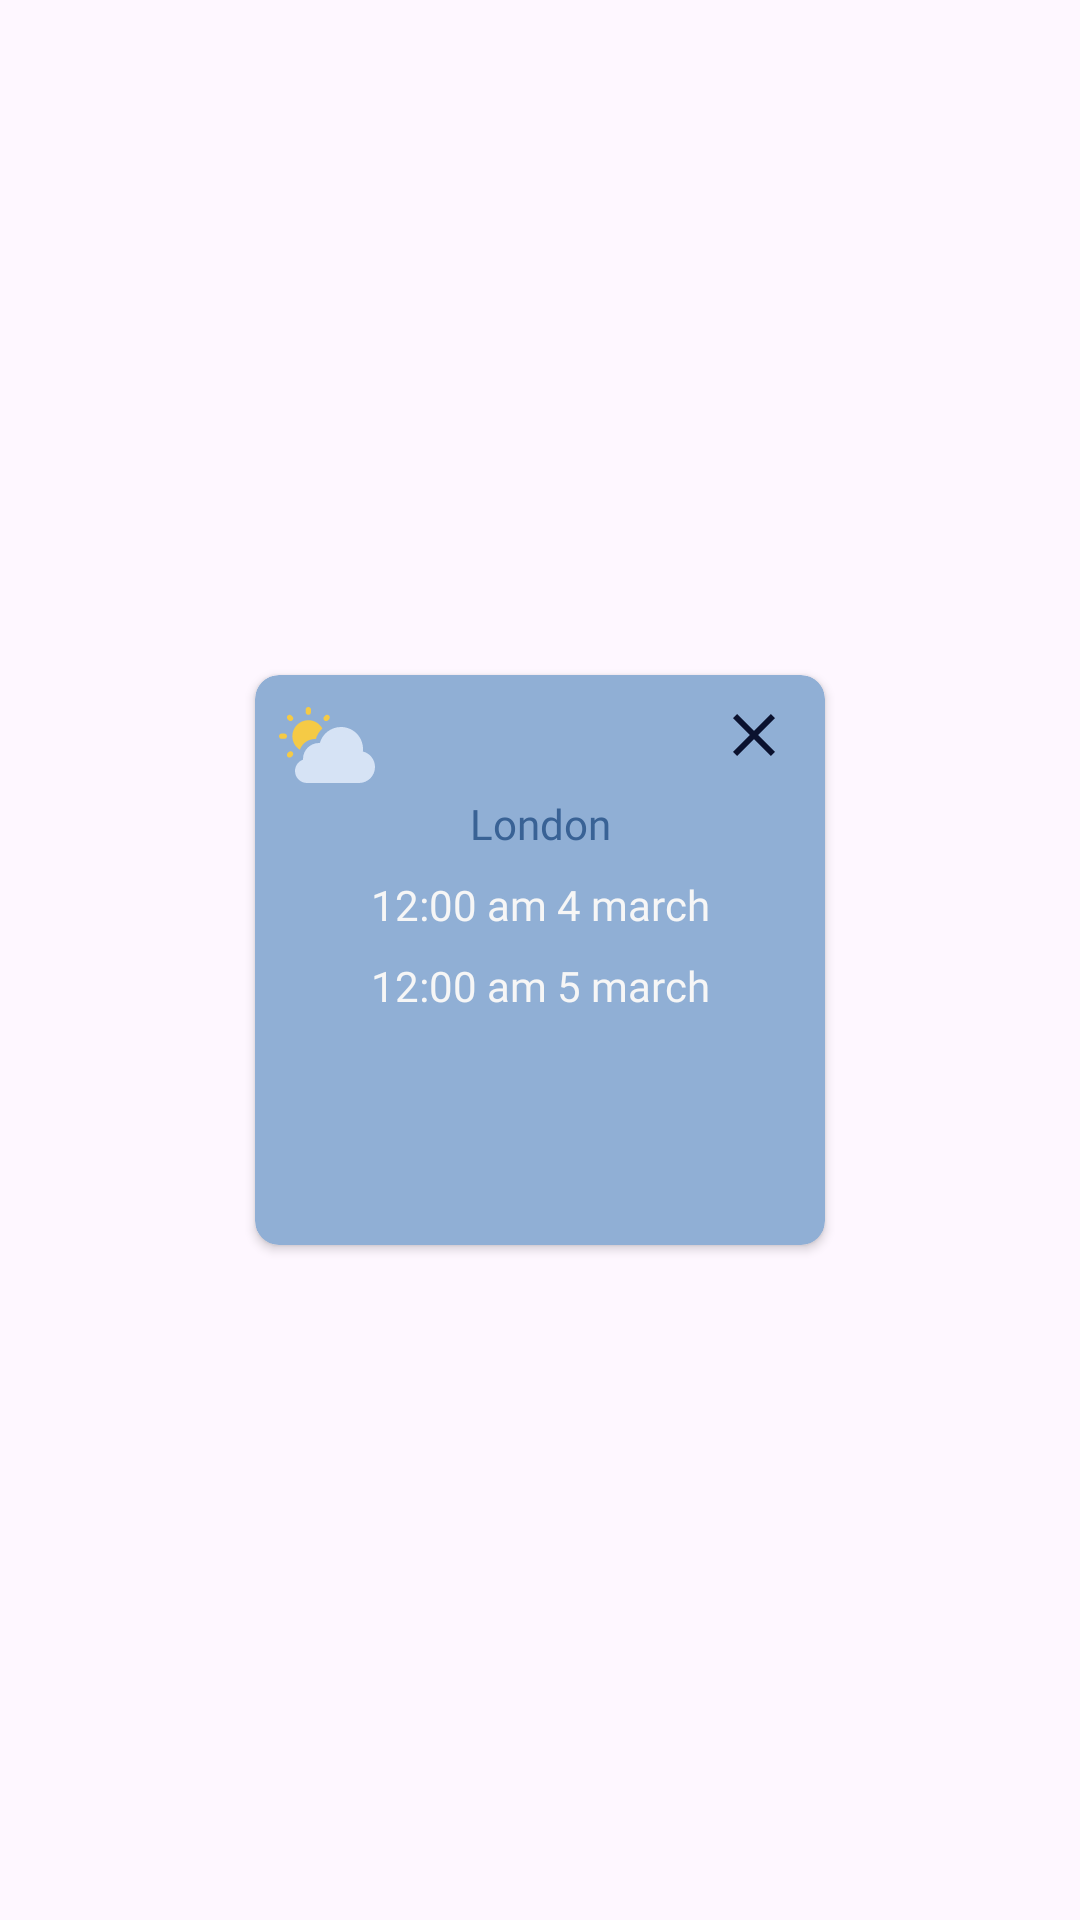

Where to tap for icons on this 1080×1920 app screen, as (x=x, y=y):
close: (x=754, y=735)
